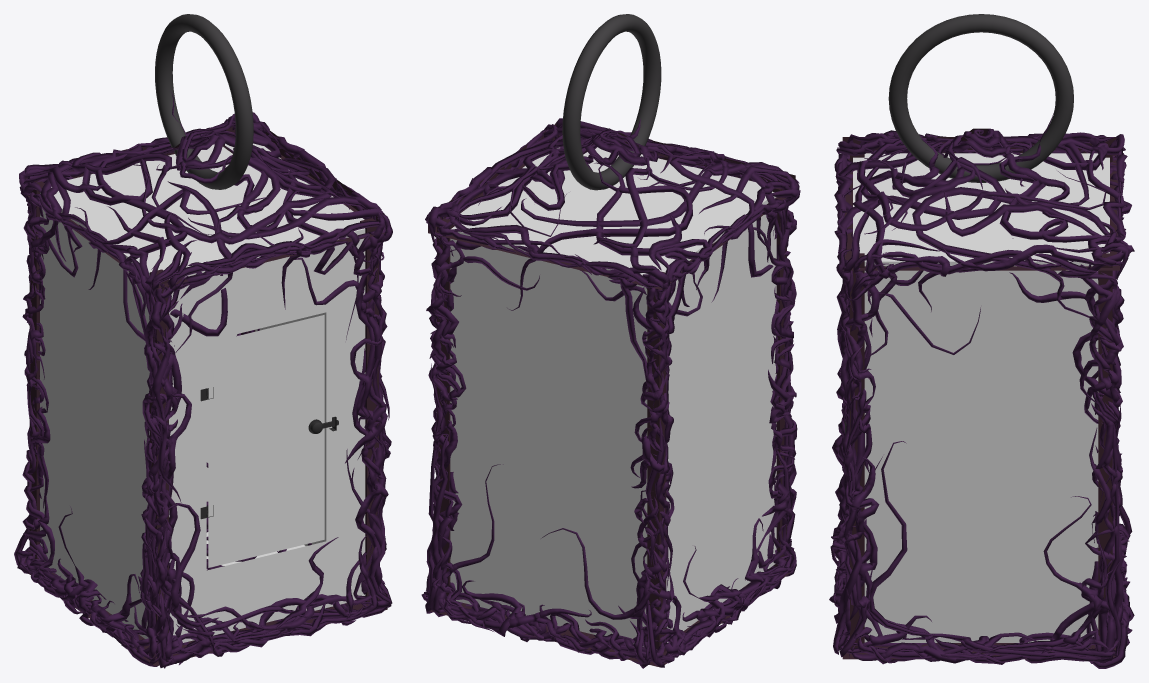
Rendered from Laterne.fbx.
The picture shows the model from 3 angles, left to right: view 1: azimuth 30°, elevation 25°; view 2: azimuth 150°, elevation 25°; view 3: azimuth 270°, elevation 25°; orthographic projection. The views are drawn at different scales.
Parts seen in each view (by area): view 1: scheiben, vines, door, handle, beams, top; view 2: scheiben, vines, handle, beams, top; view 3: scheiben, vines, handle, beams, top.
Boxes of the visible parts, box(x1,y1,x2,y2) form: scheiben: box(40, 143, 365, 642); vines: box(14, 91, 392, 668); door: box(208, 315, 324, 567); handle: box(155, 14, 253, 189); beams: box(29, 181, 378, 644); top: box(25, 126, 384, 288); scheiben: box(450, 147, 776, 646); vines: box(421, 118, 800, 668); handle: box(562, 14, 661, 190); beams: box(437, 135, 786, 652); top: box(428, 123, 795, 289); scheiben: box(853, 153, 1109, 642); vines: box(829, 113, 1134, 668); handle: box(888, 14, 1073, 182); beams: box(850, 154, 1112, 648); top: box(842, 128, 1119, 270).
Size of the model in its own units: 239 by 516 by 238.
